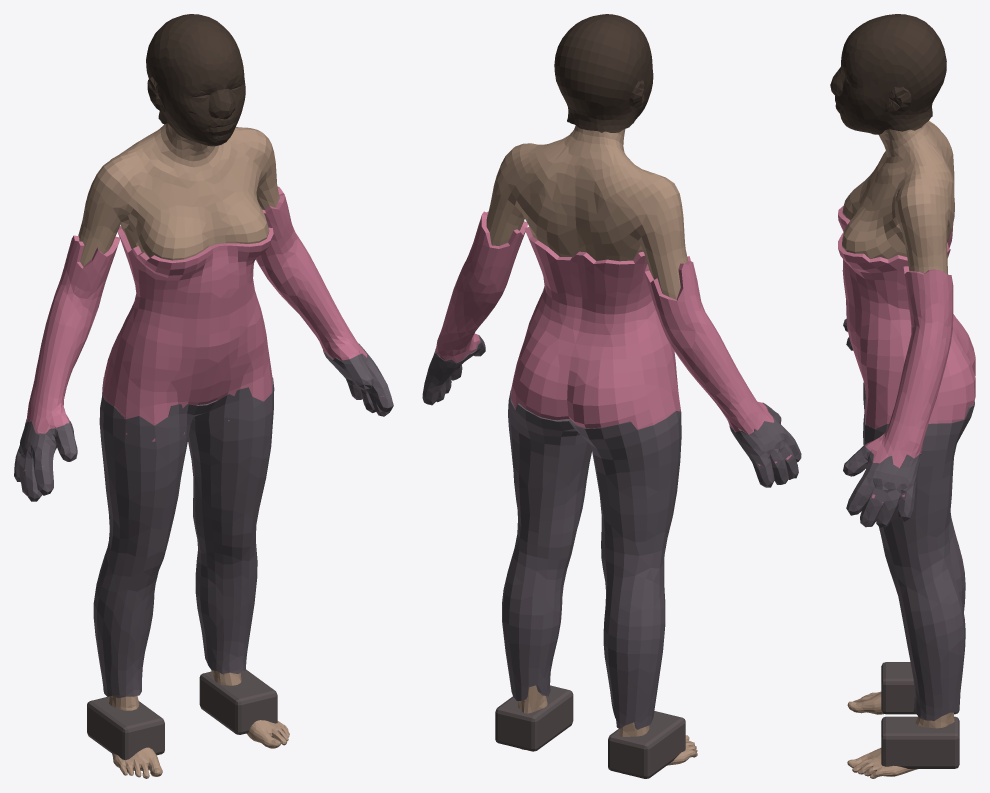
Rendered from variant_female_deep.glb.
3 views of the same model, side by side, from view 1: azimuth 30°, elevation 25°; view 2: azimuth 150°, elevation 25°; view 3: azimuth 270°, elevation 25° (orthographic).
Visible parts, largest first — view 1: PeriHuman; view 2: PeriHuman; view 3: PeriHuman.
Boxes of the visible parts, x1=… form: PeriHuman: x1=14, y1=14, x2=393, y2=778; PeriHuman: x1=422, y1=14, x2=801, y2=778; PeriHuman: x1=830, y1=14, x2=975, y2=778.
Bounding box in the file's own units: 0.8848 × 1.7 × 0.3104.
